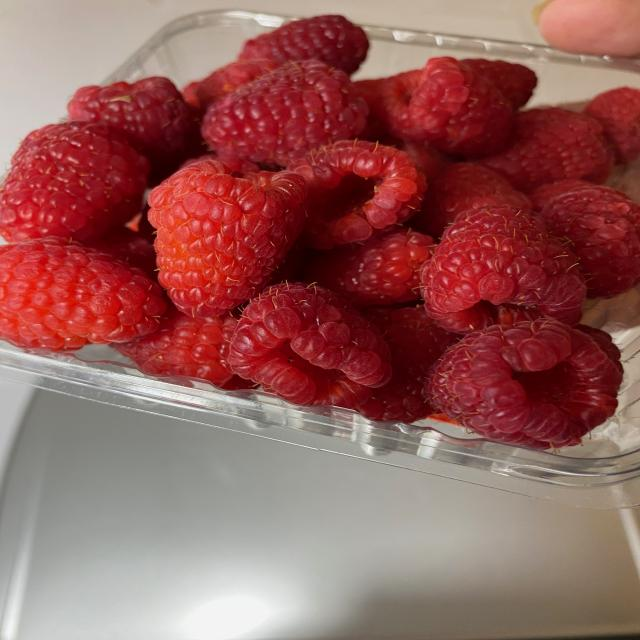raspberries: (7, 70, 627, 326)
